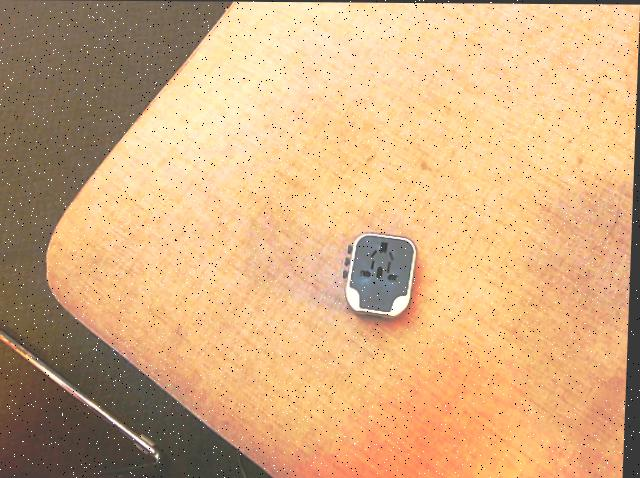adapter: (343, 232, 419, 318)
